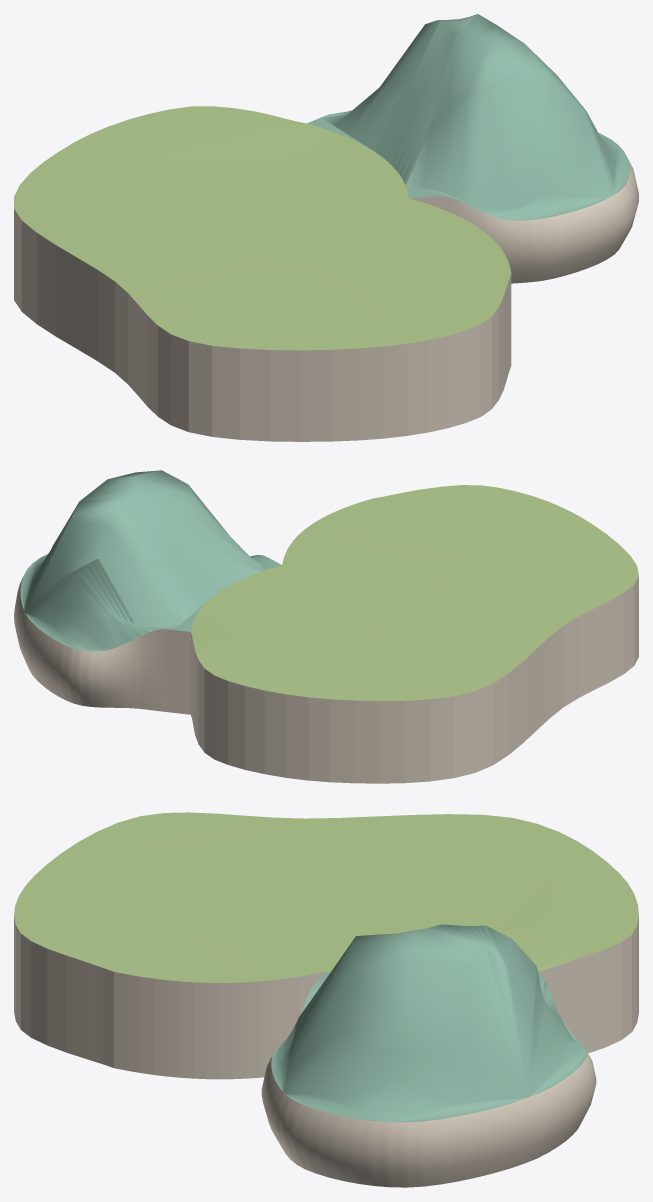
Rendered from parallel-source.glb.
The picture shows the model from 3 angles, top to bottom: view 1: azimuth 30°, elevation 25°; view 2: azimuth 150°, elevation 25°; view 3: azimuth 270°, elevation 25°; orthographic projection. The views are drawn at different scales.
Visible parts, largest first — view 1: baseline/top, baseline/rounded-coast, parallel/top, parallel/rounded-coast; view 2: baseline/top, baseline/rounded-coast, parallel/top, parallel/rounded-coast; view 3: baseline/top, parallel/top, parallel/rounded-coast, baseline/rounded-coast, baseline/bank-north-seam.
Part boxes in pixels (x1,y1,x2,y2): baseline/top: (14, 106, 511, 350); baseline/rounded-coast: (14, 209, 511, 441); parallel/top: (307, 14, 629, 220); parallel/rounded-coast: (410, 157, 638, 283); baseline/top: (191, 485, 638, 700); baseline/rounded-coast: (191, 576, 638, 783); parallel/top: (20, 470, 281, 651); parallel/rounded-coast: (14, 576, 190, 714); baseline/top: (14, 812, 638, 982); parallel/top: (271, 924, 586, 1122); parallel/rounded-coast: (261, 1052, 596, 1187); baseline/rounded-coast: (14, 916, 638, 1067); baseline/bank-north-seam: (114, 972, 325, 1079).
Bounding box in the file's own units: 6.38 × 2.06 × 5.88.
